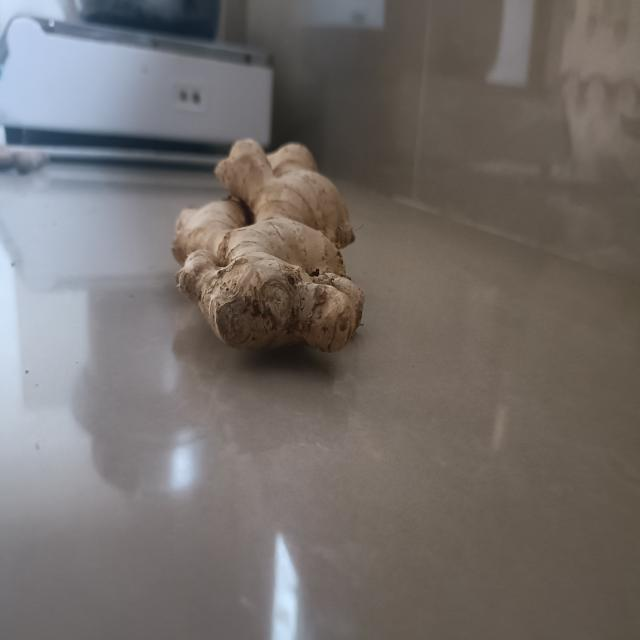ginger: (173, 136, 366, 356)
